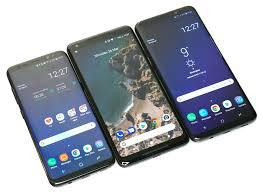Smartphone: (131, 3, 263, 139), (66, 31, 173, 169), (8, 50, 100, 191)
